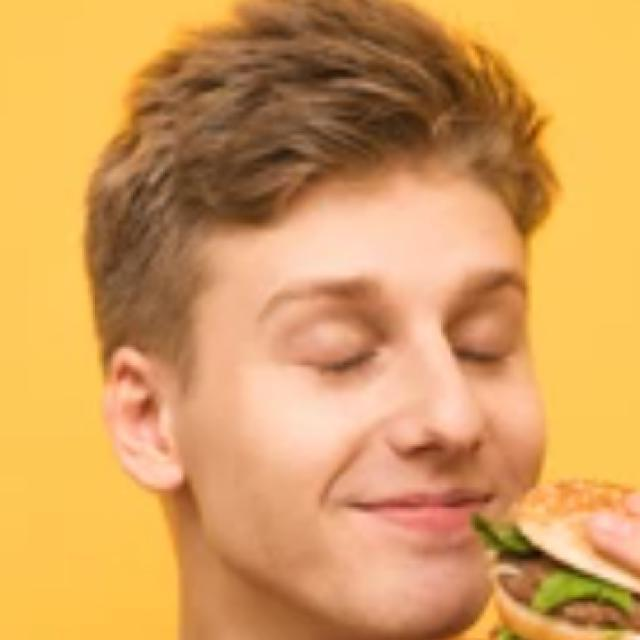close: (257, 262, 399, 400), (440, 255, 542, 375)
